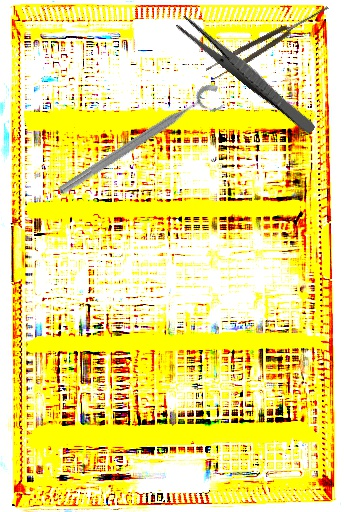Dressing Forceps: (174, 13, 320, 137)
Fixation Ring: (54, 79, 230, 209)
Tissue Forceps: (204, 0, 333, 83)
